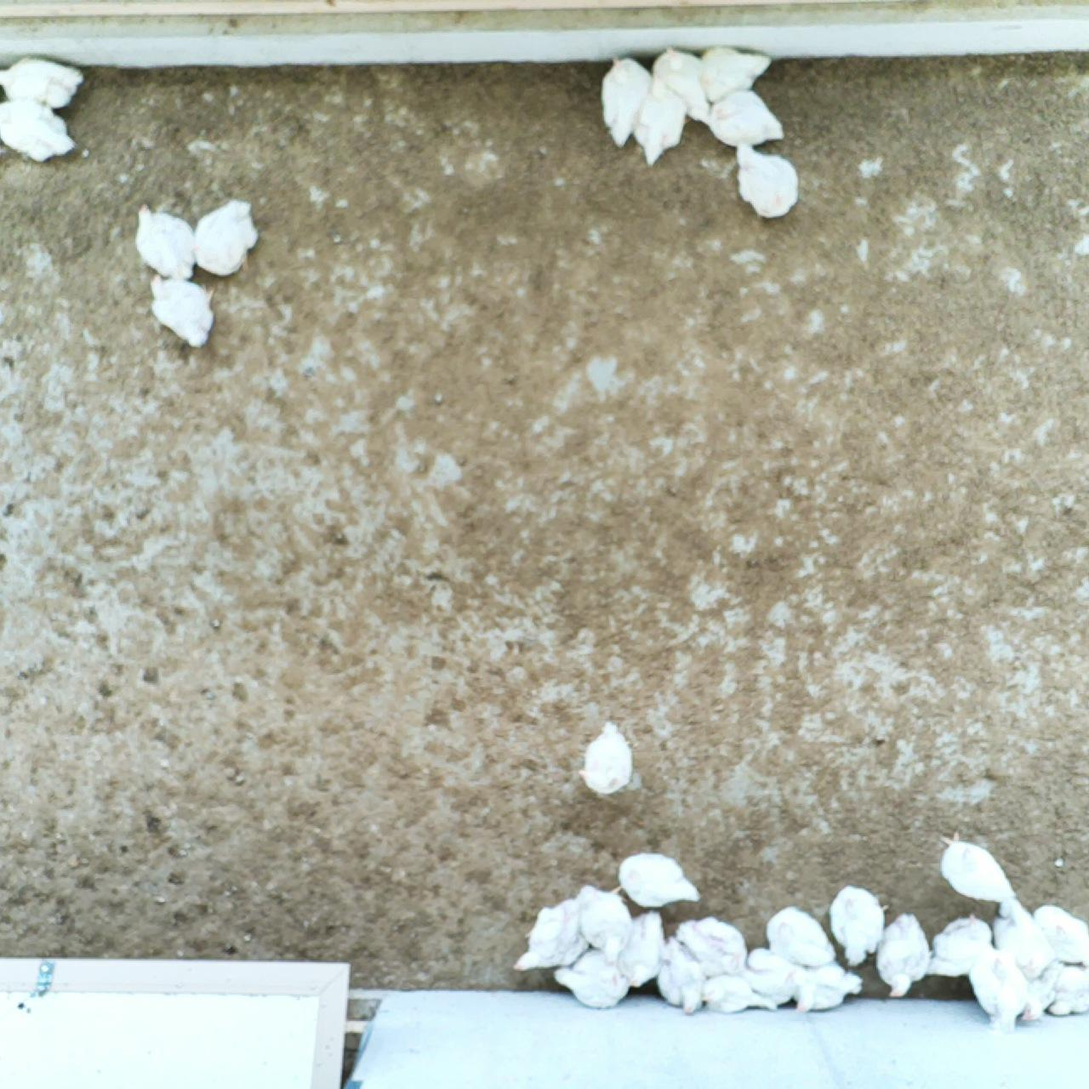chicken: (936, 824, 1024, 909), (510, 896, 590, 973), (630, 75, 692, 174), (144, 268, 216, 353), (731, 140, 802, 225), (597, 52, 656, 153), (131, 200, 202, 283), (964, 945, 1029, 1035), (647, 43, 714, 129), (827, 883, 892, 971), (194, 195, 262, 278), (873, 908, 933, 1001), (551, 946, 633, 1014), (0, 98, 79, 168), (572, 717, 637, 801), (616, 850, 705, 911), (989, 899, 1056, 980), (574, 881, 634, 970), (925, 911, 995, 986), (675, 914, 751, 981), (0, 53, 87, 111), (697, 42, 773, 108), (706, 88, 789, 148), (764, 904, 838, 967), (654, 930, 706, 1019), (614, 910, 670, 990), (789, 960, 866, 1016), (696, 970, 778, 1019), (1031, 900, 1089, 966), (745, 942, 797, 1010), (1018, 959, 1067, 1025), (1046, 963, 1089, 1018)
